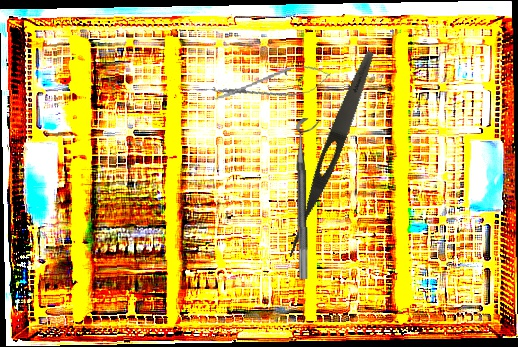Dressing Forceps: (282, 48, 380, 261)
Fixation Ring: (295, 117, 322, 280)
Micro Scissor: (210, 59, 334, 111)
